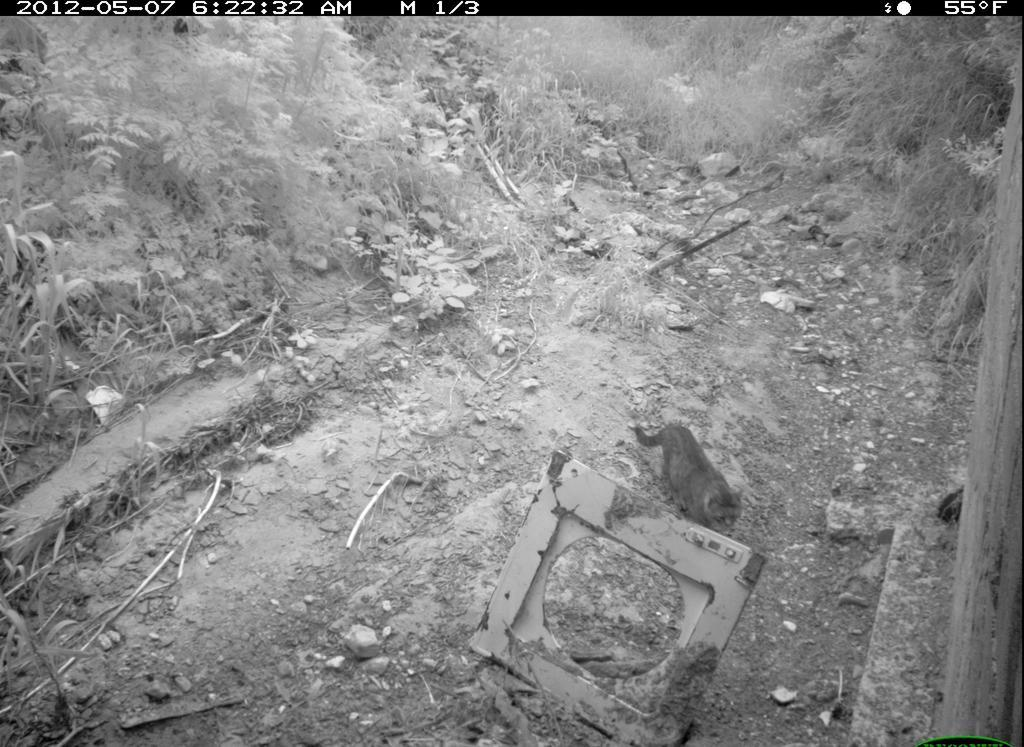cat: (626, 410, 753, 545)
